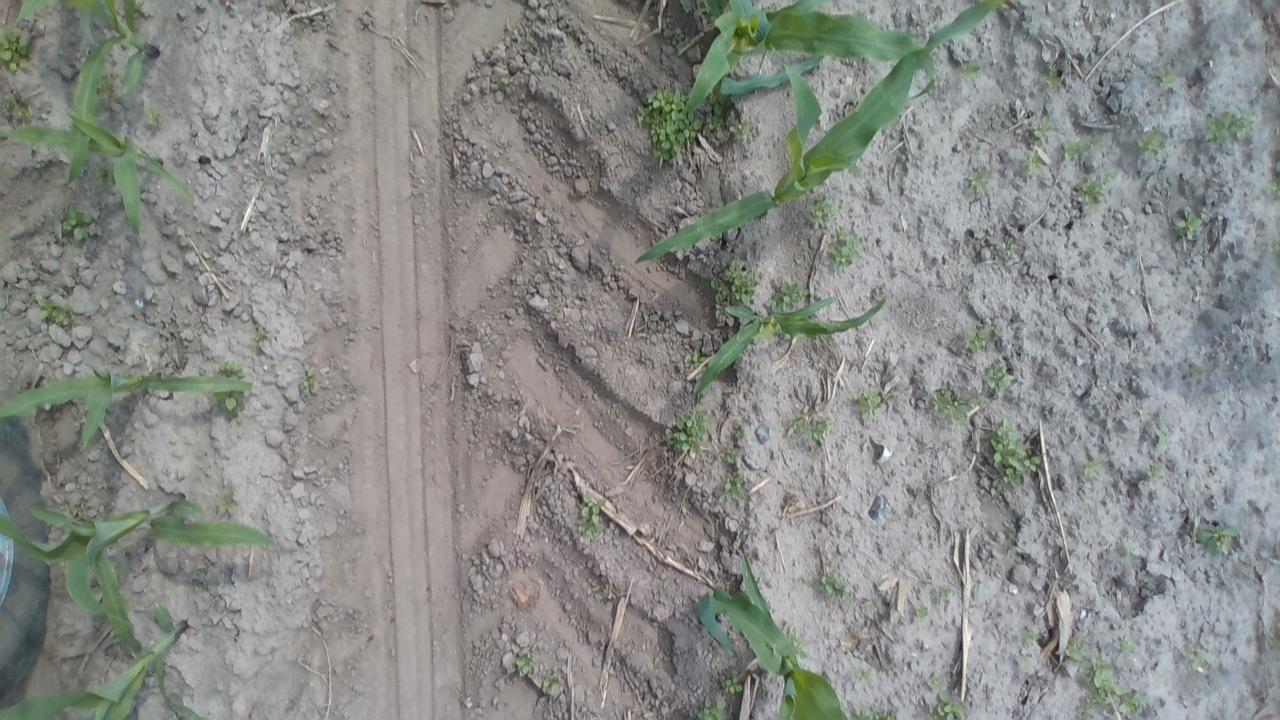Maize: (627, 32, 977, 264), (2, 490, 285, 658), (688, 0, 992, 119), (13, 4, 174, 196), (0, 108, 204, 242), (688, 284, 894, 415), (2, 356, 253, 458), (697, 552, 850, 718), (0, 605, 196, 718), (14, 0, 168, 122)
Weeds: (634, 86, 701, 165), (1074, 650, 1142, 717), (987, 420, 1041, 490), (661, 408, 710, 458), (709, 258, 759, 306), (929, 386, 982, 428), (1202, 106, 1256, 146), (1190, 519, 1242, 556), (786, 407, 831, 444), (828, 226, 864, 271), (59, 206, 101, 244), (0, 23, 33, 71), (576, 492, 607, 542), (769, 277, 810, 310), (1074, 175, 1108, 212), (814, 569, 851, 602), (38, 298, 76, 328), (851, 388, 890, 417), (1171, 207, 1204, 241), (808, 192, 838, 229), (215, 390, 248, 422), (984, 360, 1016, 392), (1, 90, 32, 122), (1139, 126, 1172, 156), (718, 466, 744, 504), (930, 693, 966, 719), (705, 94, 726, 134), (966, 166, 993, 197), (961, 324, 990, 352), (1080, 452, 1106, 483), (698, 695, 726, 720), (1023, 150, 1047, 178), (1030, 114, 1054, 142), (1152, 65, 1178, 90), (216, 359, 248, 379), (88, 164, 114, 188), (720, 671, 744, 697), (1064, 634, 1086, 662), (851, 706, 900, 718), (1060, 137, 1086, 159), (729, 118, 752, 142), (214, 491, 236, 516), (297, 366, 317, 392), (516, 650, 536, 676), (1041, 64, 1063, 87), (958, 57, 979, 81), (590, 582, 616, 601), (1112, 636, 1135, 656), (1186, 644, 1205, 668), (250, 327, 272, 347), (686, 348, 706, 368), (1144, 461, 1165, 480), (1019, 629, 1040, 648), (96, 74, 115, 94), (913, 601, 931, 622), (1002, 236, 1019, 258), (1153, 425, 1169, 448), (856, 666, 876, 684), (933, 584, 954, 601), (498, 72, 520, 88), (543, 672, 562, 690), (718, 446, 739, 461), (478, 212, 496, 229), (1088, 133, 1105, 151), (925, 671, 942, 689), (1017, 654, 1036, 670), (144, 109, 160, 128), (1263, 628, 1276, 648), (1102, 167, 1118, 183), (1188, 365, 1204, 380), (732, 422, 746, 439), (1120, 542, 1134, 558), (796, 577, 810, 592)
